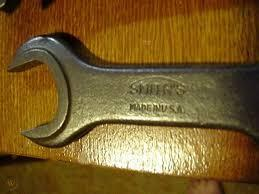wrench: (5, 33, 258, 148)
